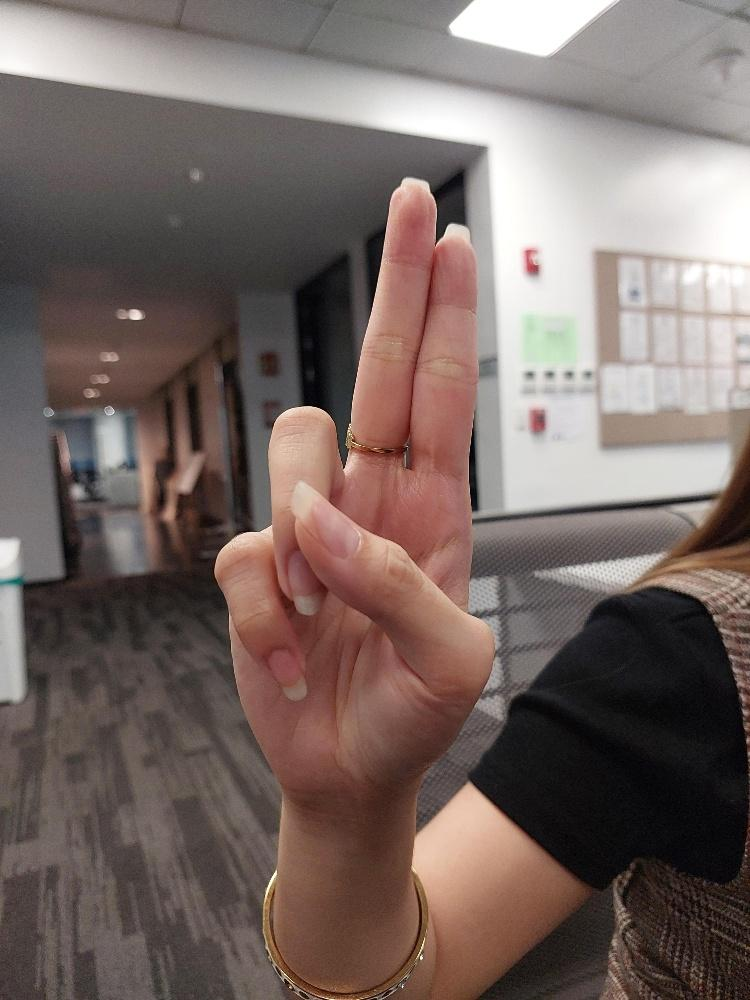u: (211, 171, 501, 811)
